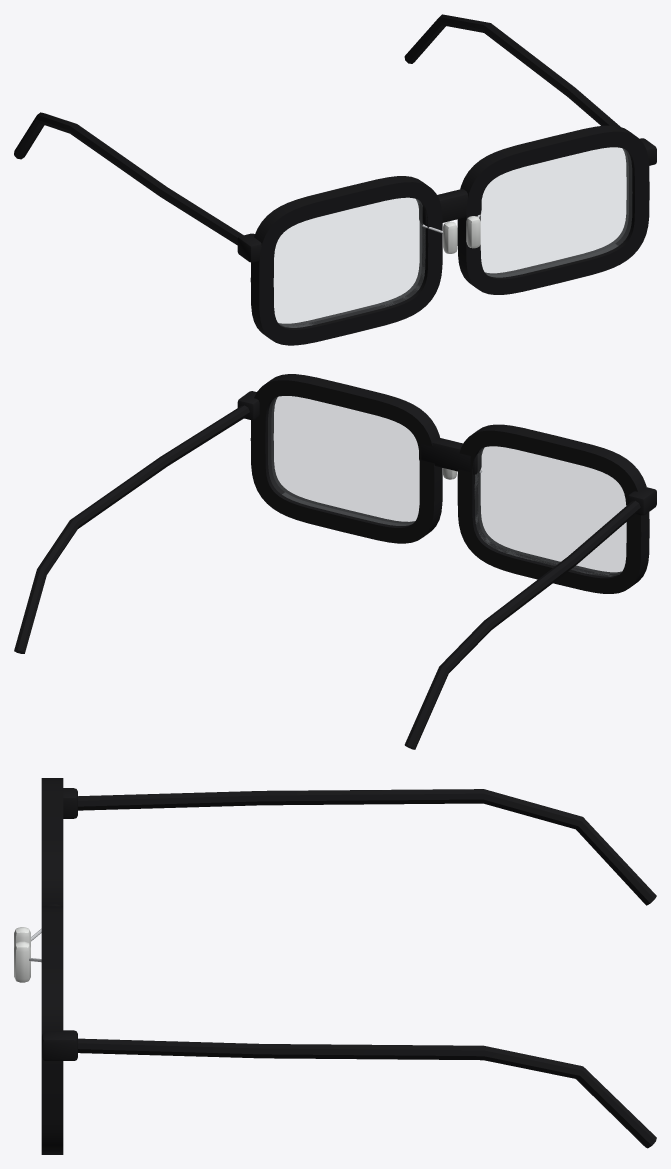
File: rectangular-acetate-glasses.glb
The picture shows the model from 3 angles, top to bottom: view 1: azimuth 30°, elevation 25°; view 2: azimuth 150°, elevation 25°; view 3: azimuth 270°, elevation 25°; orthographic projection. The views are drawn at different scales.
Parts seen in each view (by area): view 1: Lenses - Lenses, clear (alpha-blended), Frame front - Acetate frame, black, Temples and hinges (open) - Acetate frame, black, Frame front - Nose pads, clear silicone; view 2: Lenses - Lenses, clear (alpha-blended), Frame front - Acetate frame, black, Temples and hinges (open) - Acetate frame, black; view 3: Temples and hinges (open) - Acetate frame, black, Frame front - Acetate frame, black, Frame front - Nose pads, clear silicone.
Part boxes in pixels (x1,y1,x2,y2): Lenses - Lenses, clear (alpha-blended): (274,147,631,327); Frame front - Acetate frame, black: (250,125,649,345); Temples and hinges (open) - Acetate frame, black: (14,14,656,262); Frame front - Nose pads, clear silicone: (443,216,480,253); Lenses - Lenses, clear (alpha-blended): (268,396,626,576); Frame front - Acetate frame, black: (250,374,649,593); Temples and hinges (open) - Acetate frame, black: (14,391,656,749); Temples and hinges (open) - Acetate frame, black: (41,788,656,1148); Frame front - Acetate frame, black: (41,778,63,1154); Frame front - Nose pads, clear silicone: (14,927,30,982).
Size of the model in its own units: 0.1456 by 0.046 by 0.1503.
Materials: 4 (4 with a texture image).
